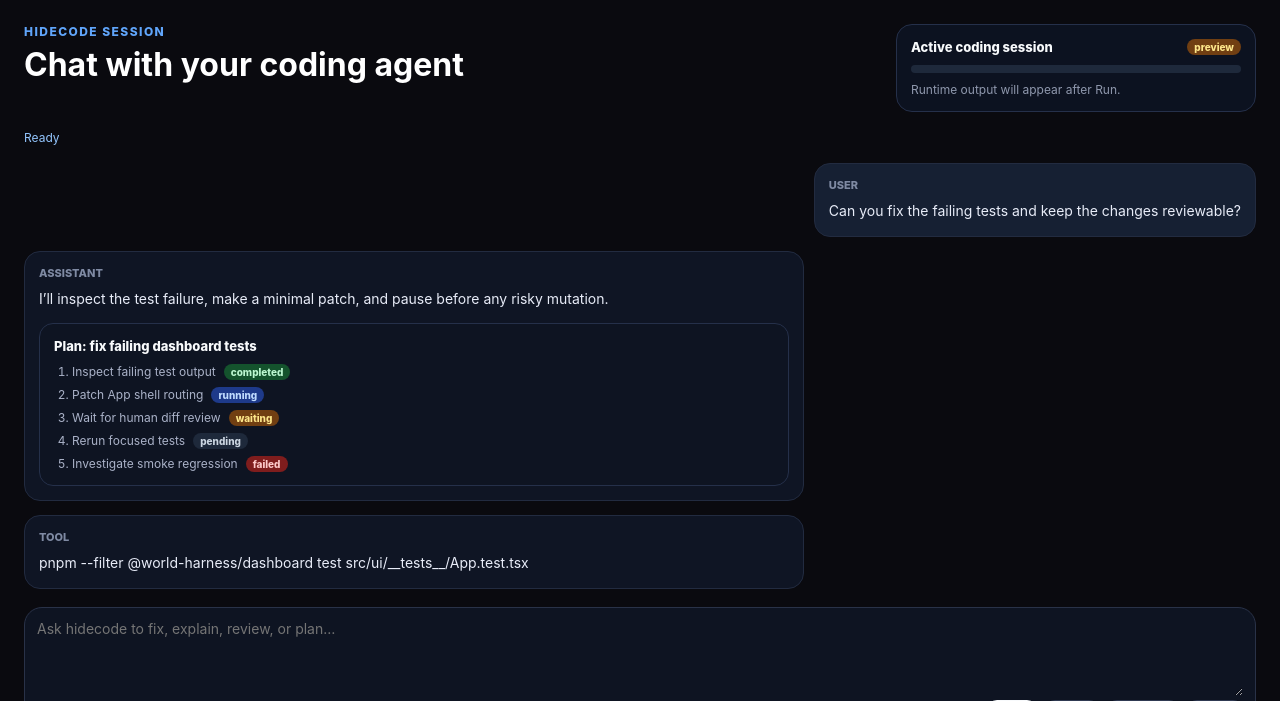
Test: ChatWorkspace › shows Stop as preview-only without submitting composer content
This screenshot has width=1280, height=701.
In the text box named "Message hidecode": (640, 658) x1=37 y1=620 x2=1243 y2=696, type "Stop this without running"
(page scrolled)
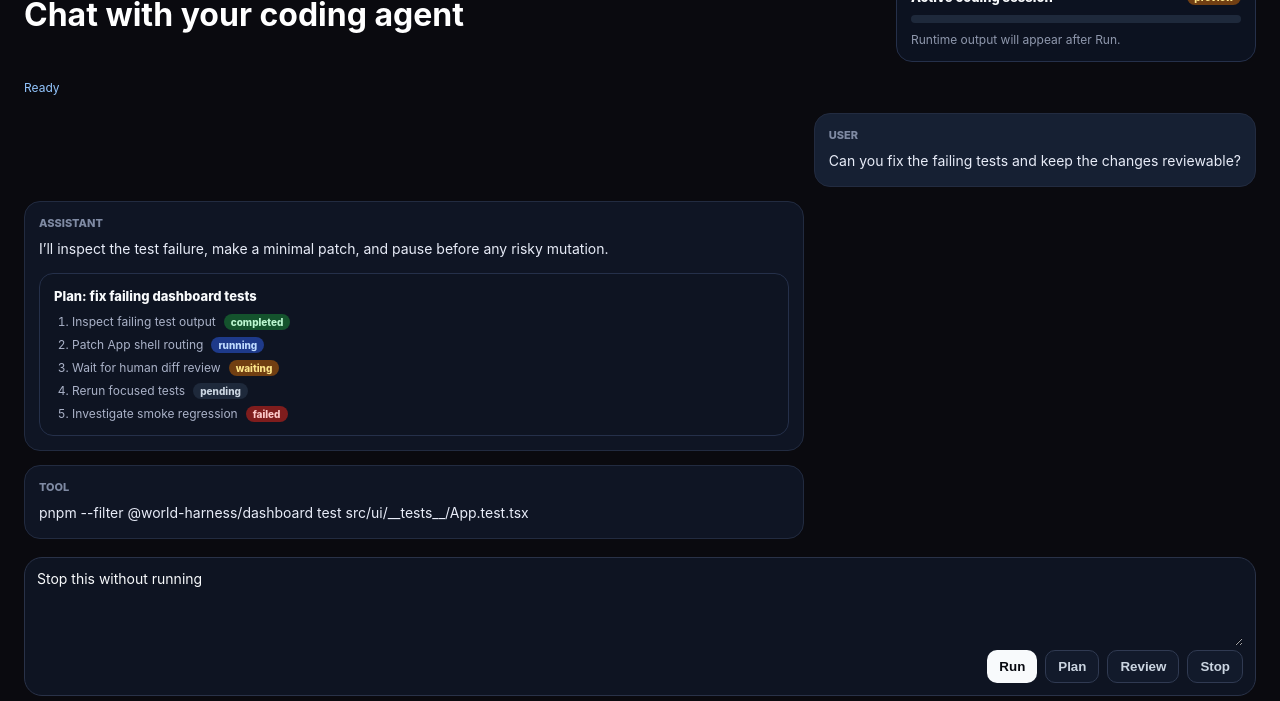
Click the button "Stop": (1215, 667) x1=1187 y1=650 x2=1243 y2=683
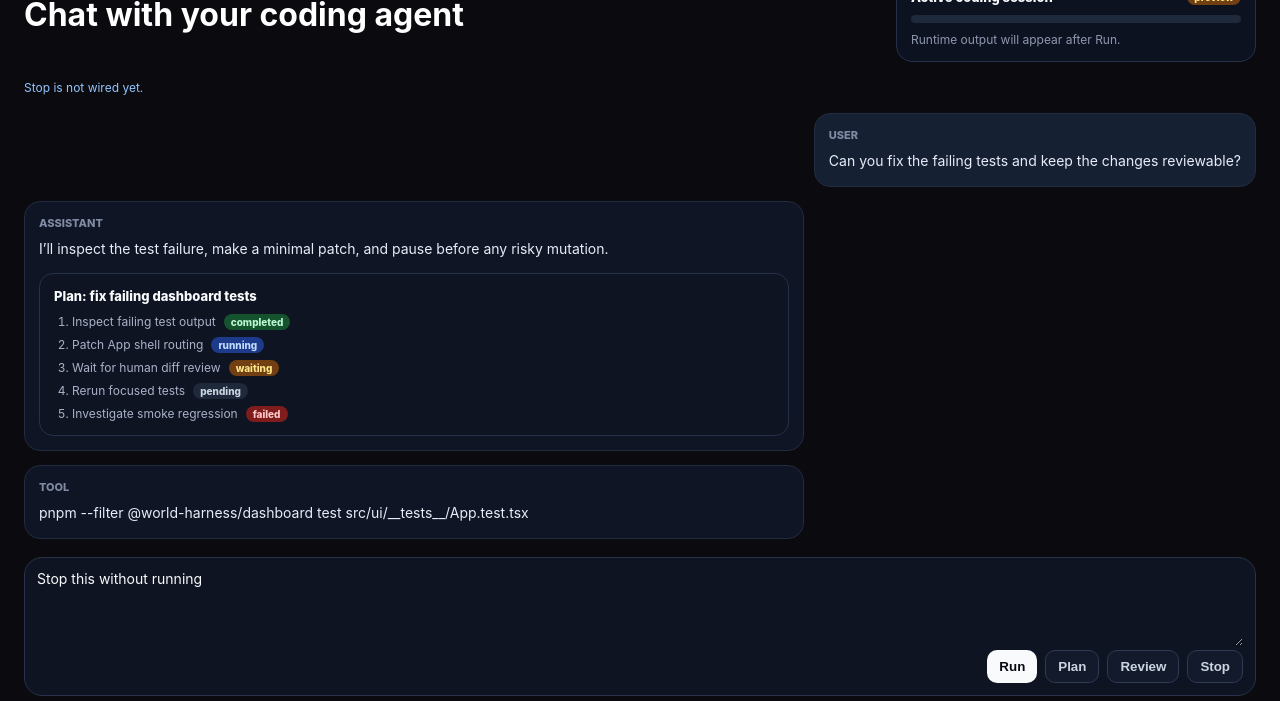
Result: the text "Stop is not wired yet." is shown at x1=24 y1=80 x2=143 y2=95
